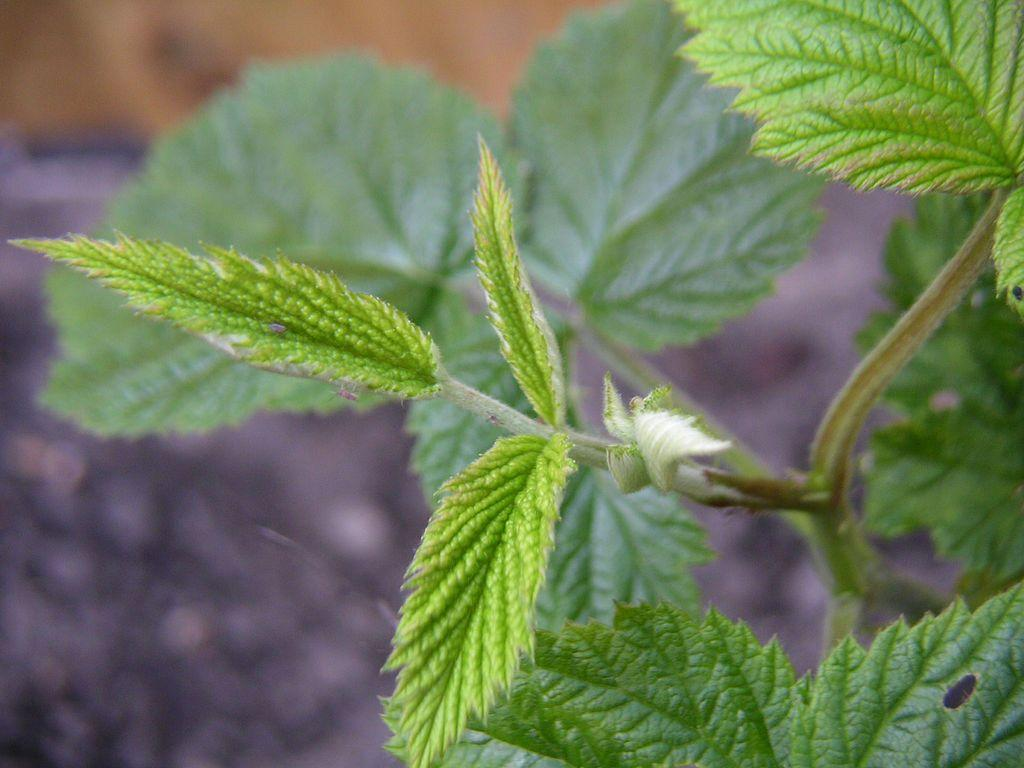Raspberry leaf: (1, 227, 444, 396), (675, 1, 1021, 199), (378, 433, 570, 768)
